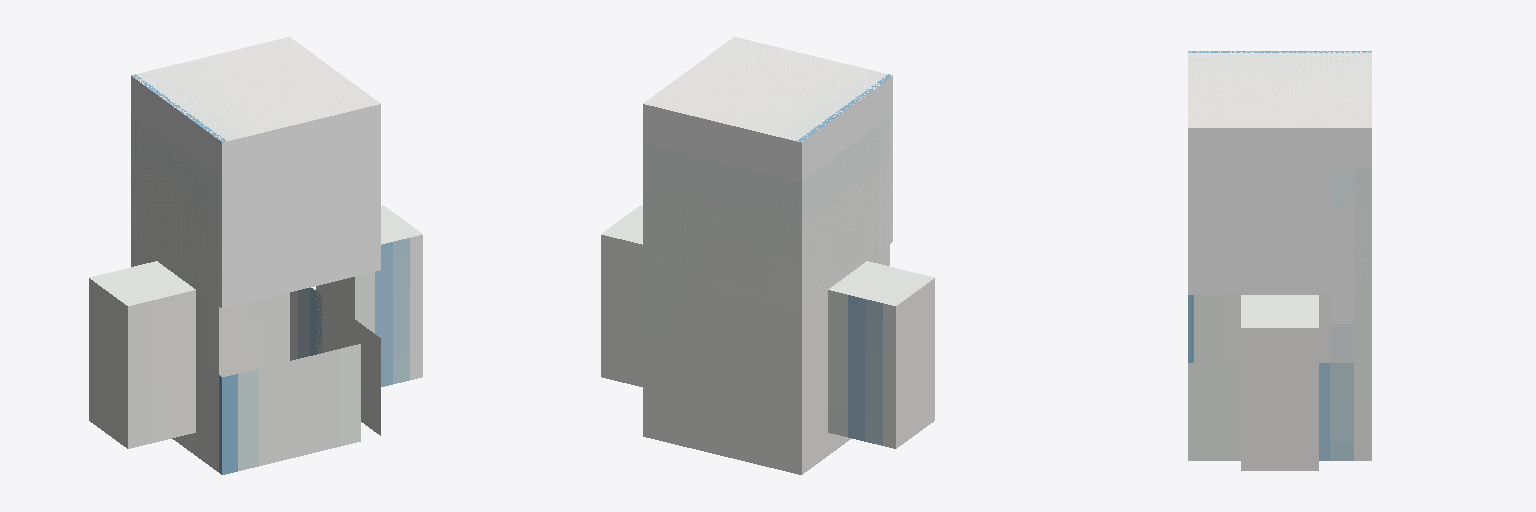
The picture shows the model from 3 angles: view 1: azimuth 30°, elevation 25°; view 2: azimuth 150°, elevation 25°; view 3: azimuth 270°, elevation 25°; orthographic projection.
Visible parts, largest first — view 1: head 1, knightBlue_8angles, left 1, right 1; view 2: head 1, knightBlue_8angles, left 1, right 1; view 3: head 1, knightBlue_8angles, right 1.
Boxes of the visible parts, box(x1,y1,x2,y2) form: head 1: box(131, 37, 380, 308); knightBlue_8angles: box(131, 242, 380, 474); left 1: box(89, 261, 195, 448); right 1: box(316, 206, 422, 386); head 1: box(643, 37, 892, 308); knightBlue_8angles: box(643, 245, 889, 474); left 1: box(828, 261, 934, 448); right 1: box(601, 206, 642, 386); head 1: box(1188, 51, 1371, 294); knightBlue_8angles: box(1188, 295, 1371, 460); right 1: box(1241, 295, 1318, 470).
Bounding box in the file's own units: 4.83 × 5.2 × 2.6.
Materials: 2 (1 with a texture image).